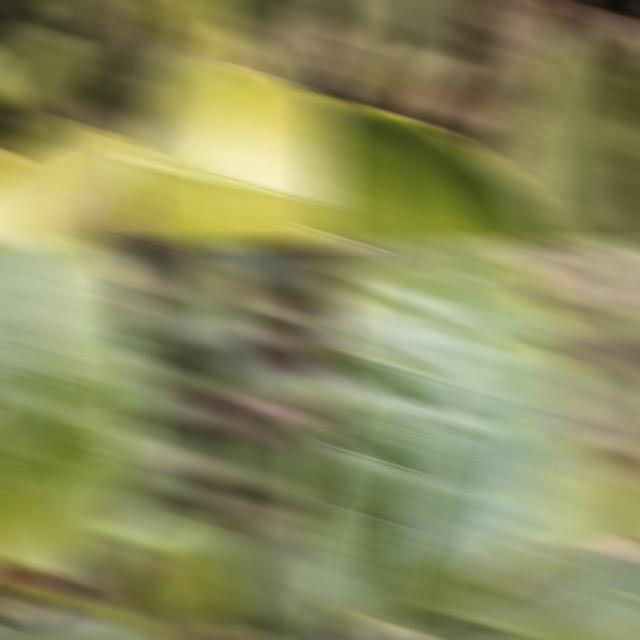Leaf: (314, 240, 607, 634), (0, 240, 149, 566), (122, 63, 338, 246), (314, 100, 555, 246), (488, 16, 640, 246), (14, 406, 155, 589), (500, 432, 640, 571), (128, 0, 258, 144), (0, 118, 146, 246), (108, 514, 263, 601), (507, 540, 640, 640), (223, 524, 338, 638), (368, 0, 473, 97), (130, 528, 235, 623), (0, 25, 82, 111), (314, 0, 395, 81), (377, 48, 461, 116), (183, 292, 251, 366), (0, 605, 143, 640), (138, 0, 224, 56), (211, 363, 315, 401), (54, 0, 125, 47), (217, 25, 271, 73)
